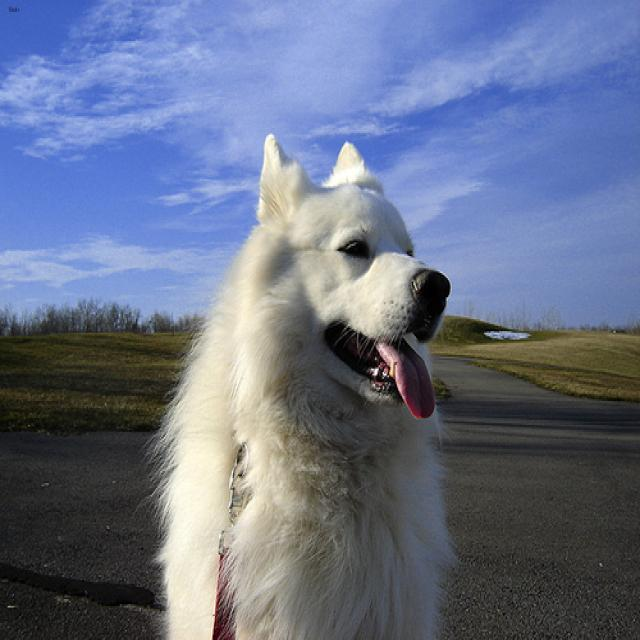dog-samoyed: (142, 125, 470, 637)
